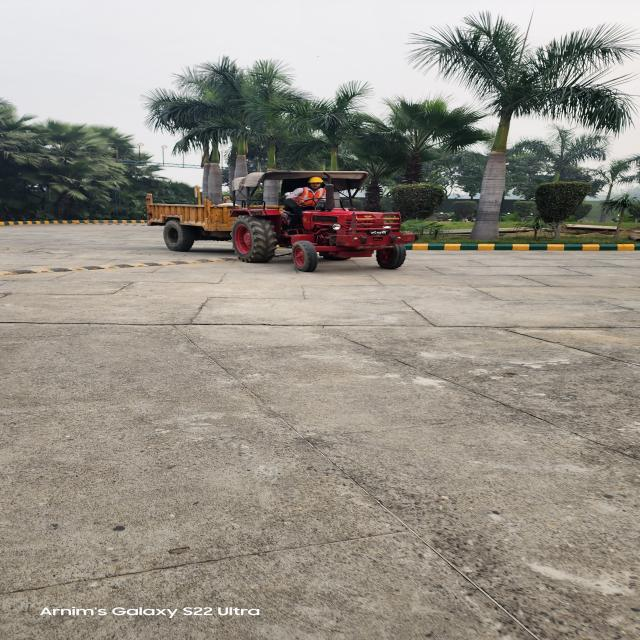safe: (288, 176, 329, 227)
